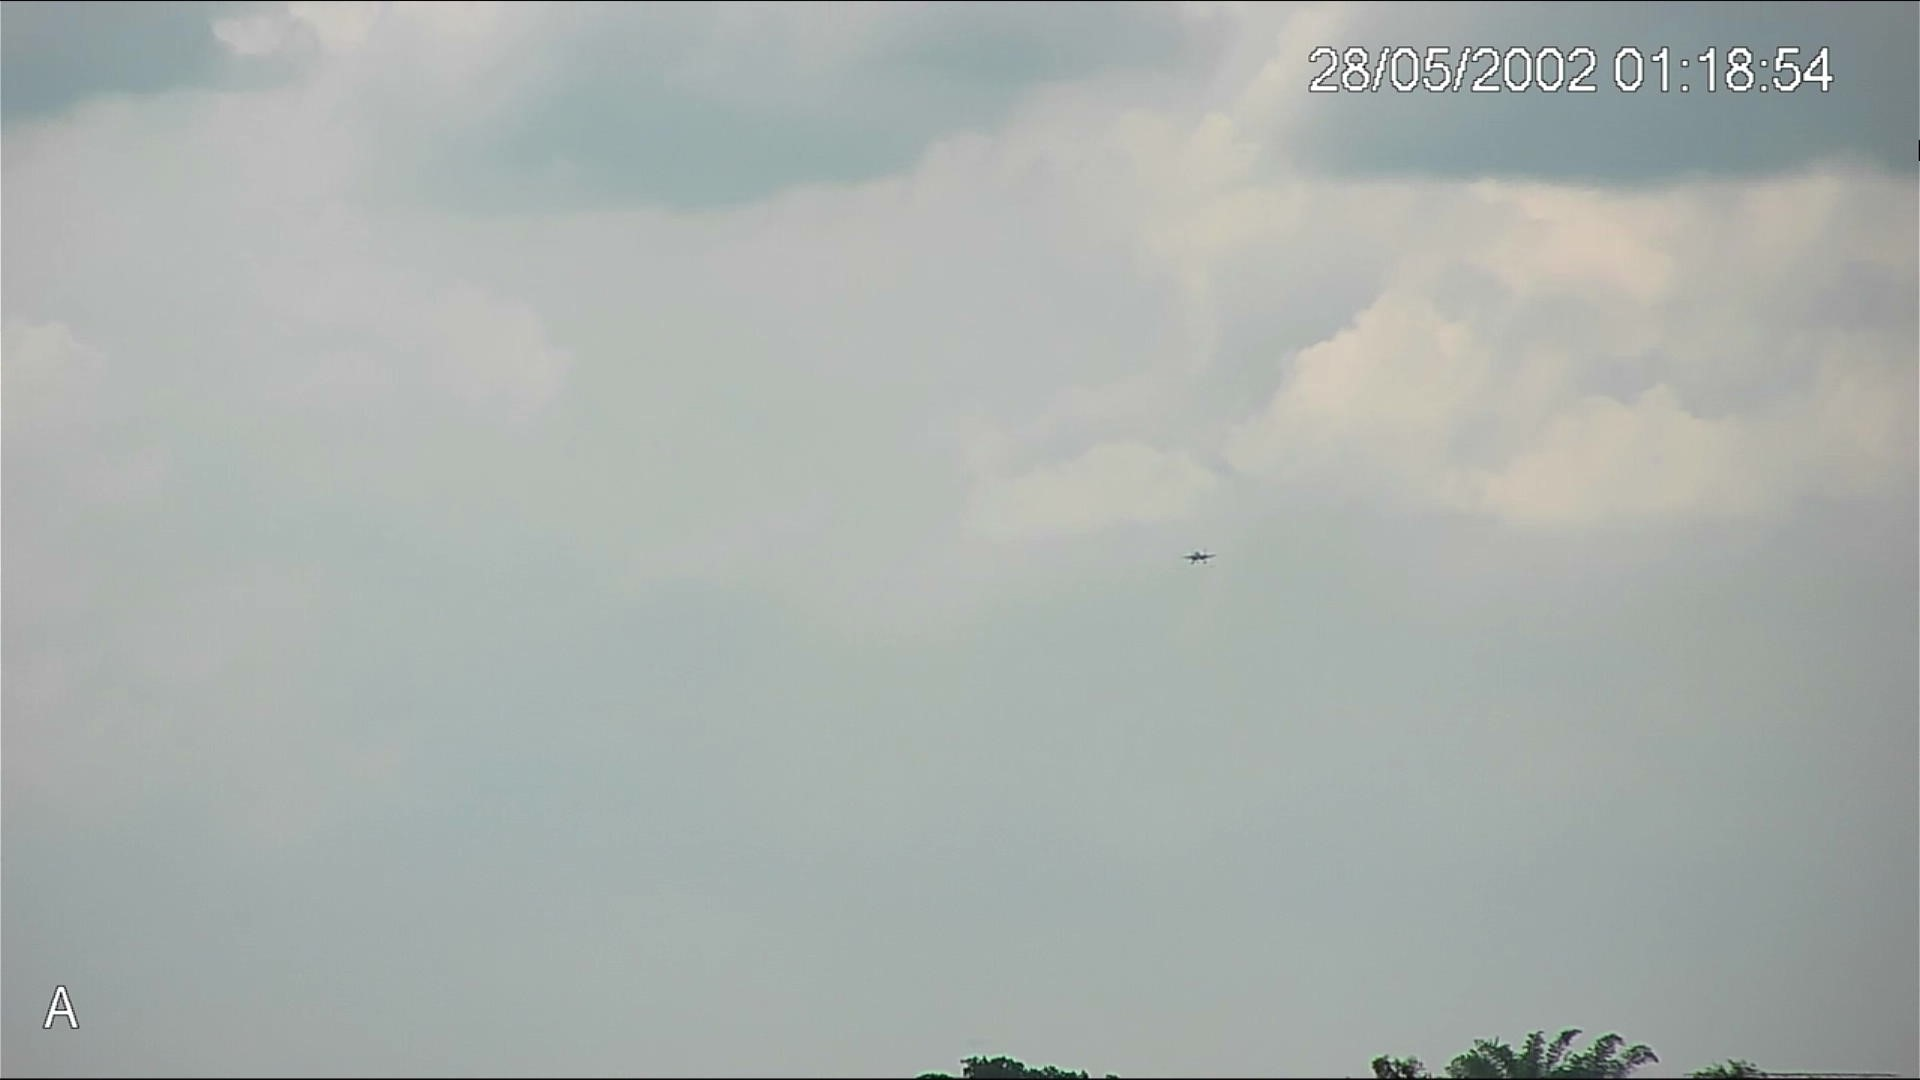SU_30: (1182, 547, 1216, 564)
